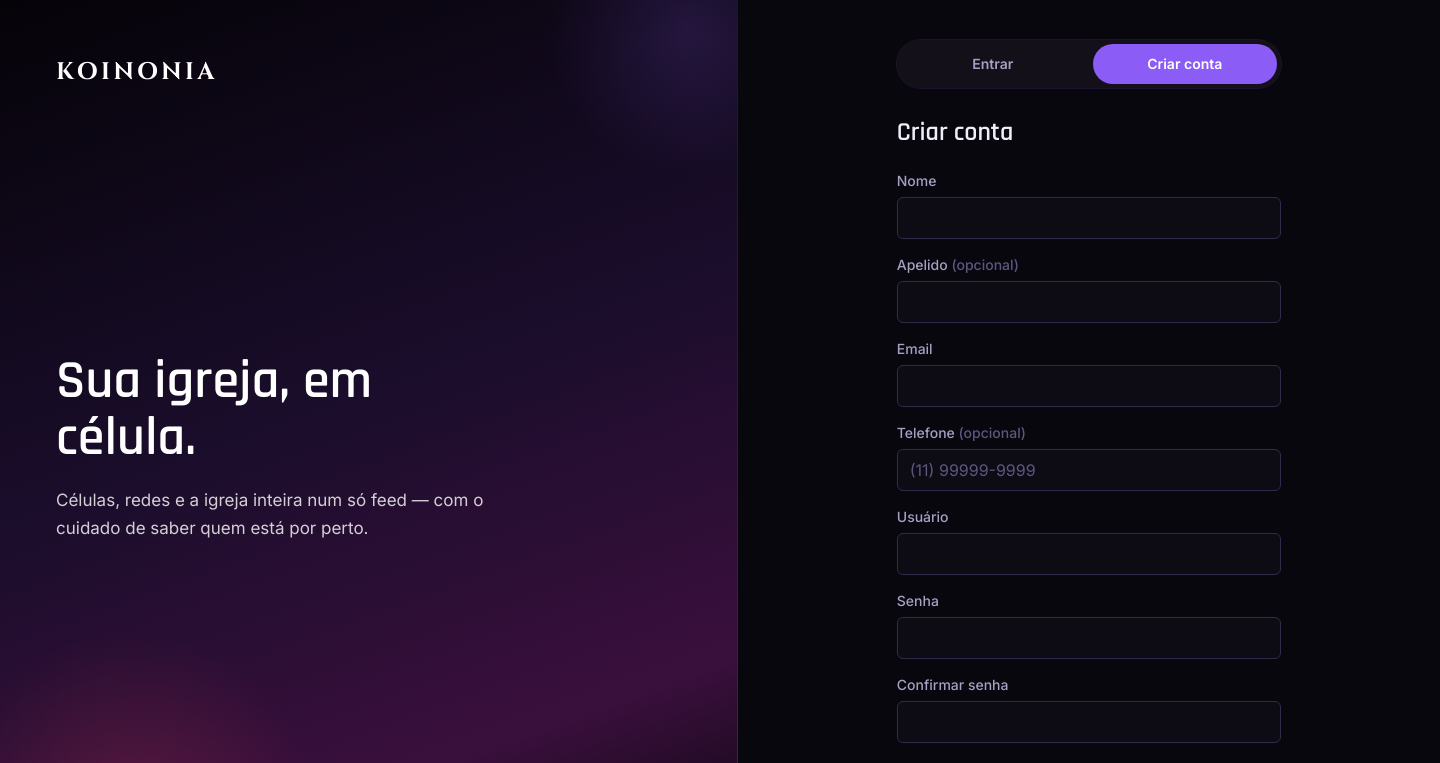
Test: RegisterPage › barra submit quando as senhas não coincidem
Type "Willians Martins" into the field labelled "Nome". click: (1089, 218)
box: x1=897 y1=197 x2=1281 y2=239
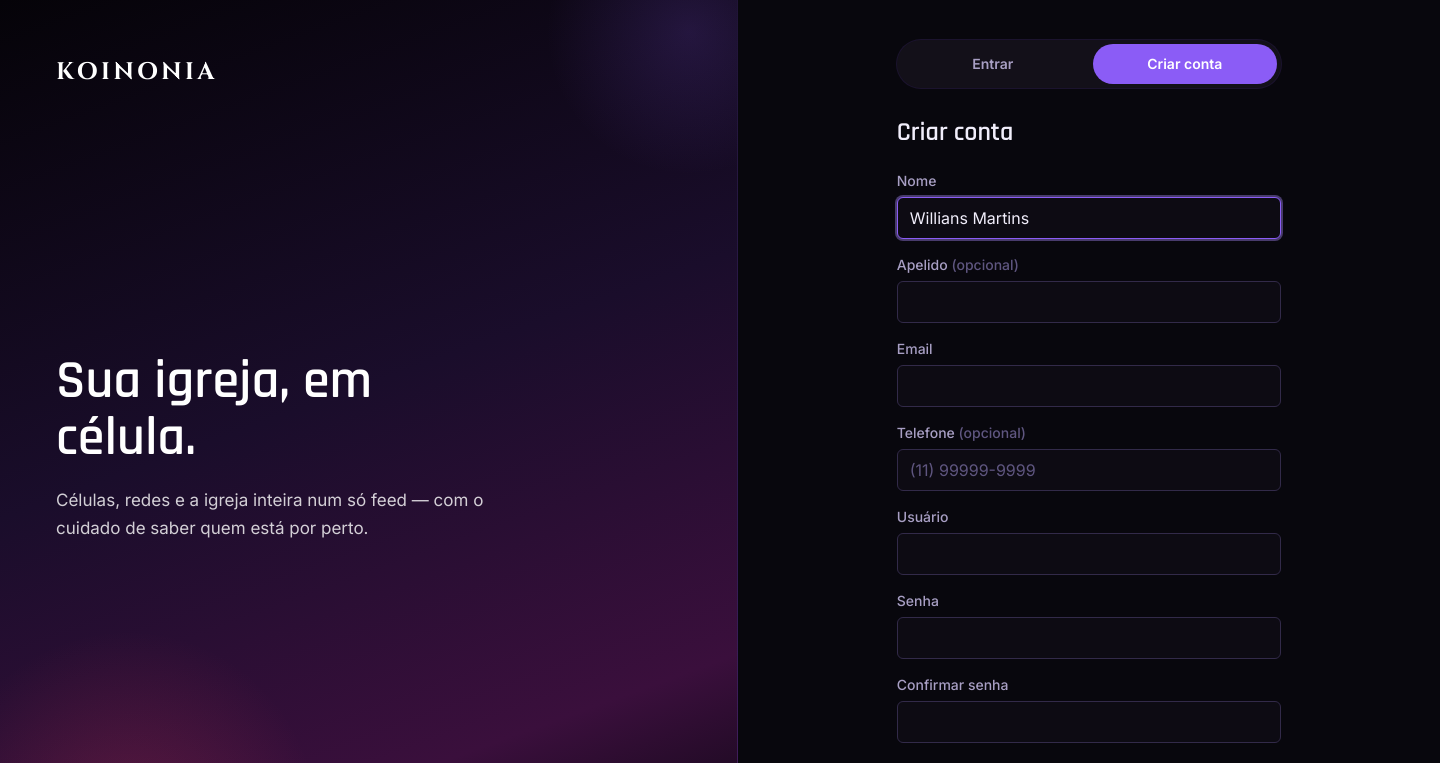
Type "wills@example.com" into the field labelled "Email". click: (1089, 386)
box: x1=897 y1=365 x2=1281 y2=407
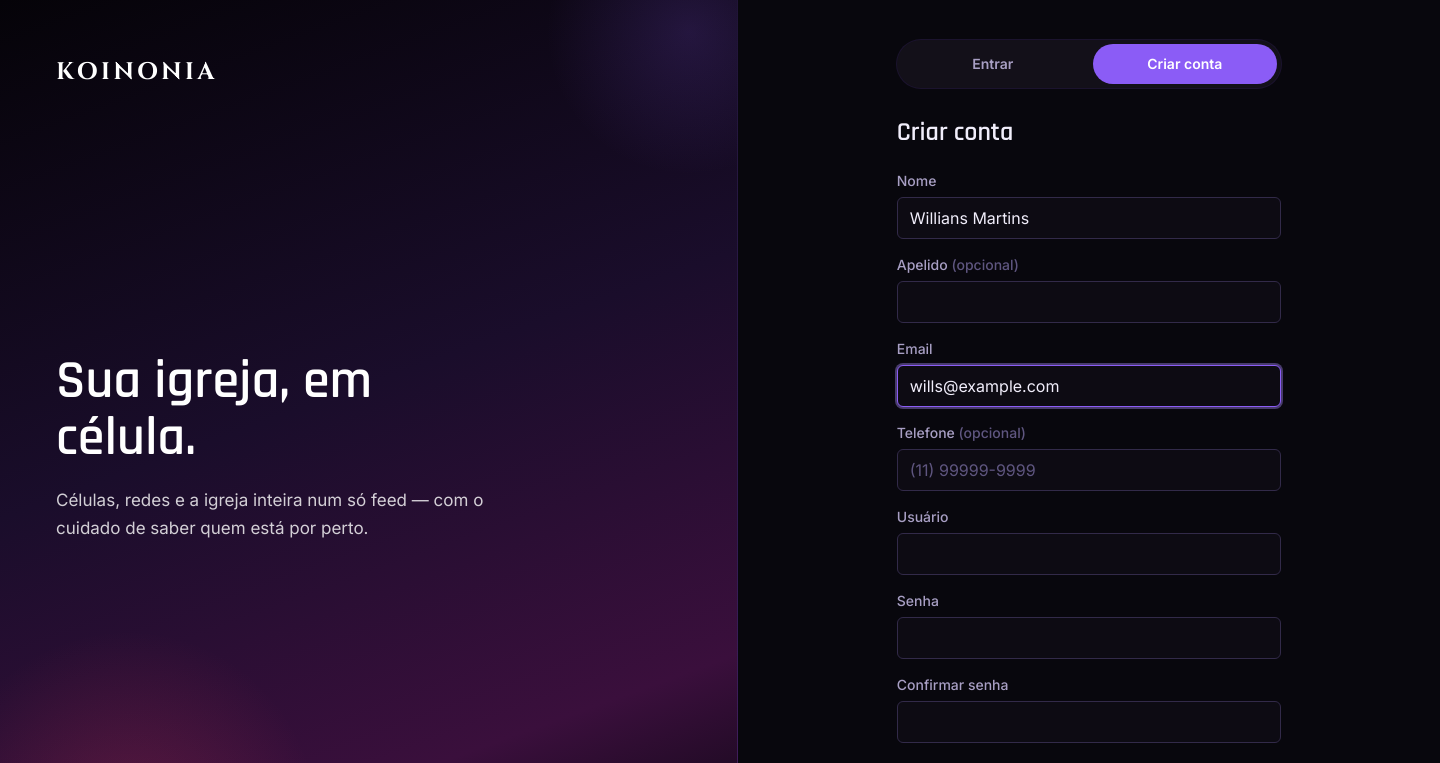
Type "wills" into the field labelled "Usuário". click: (1089, 554)
box: x1=897 y1=533 x2=1281 y2=575
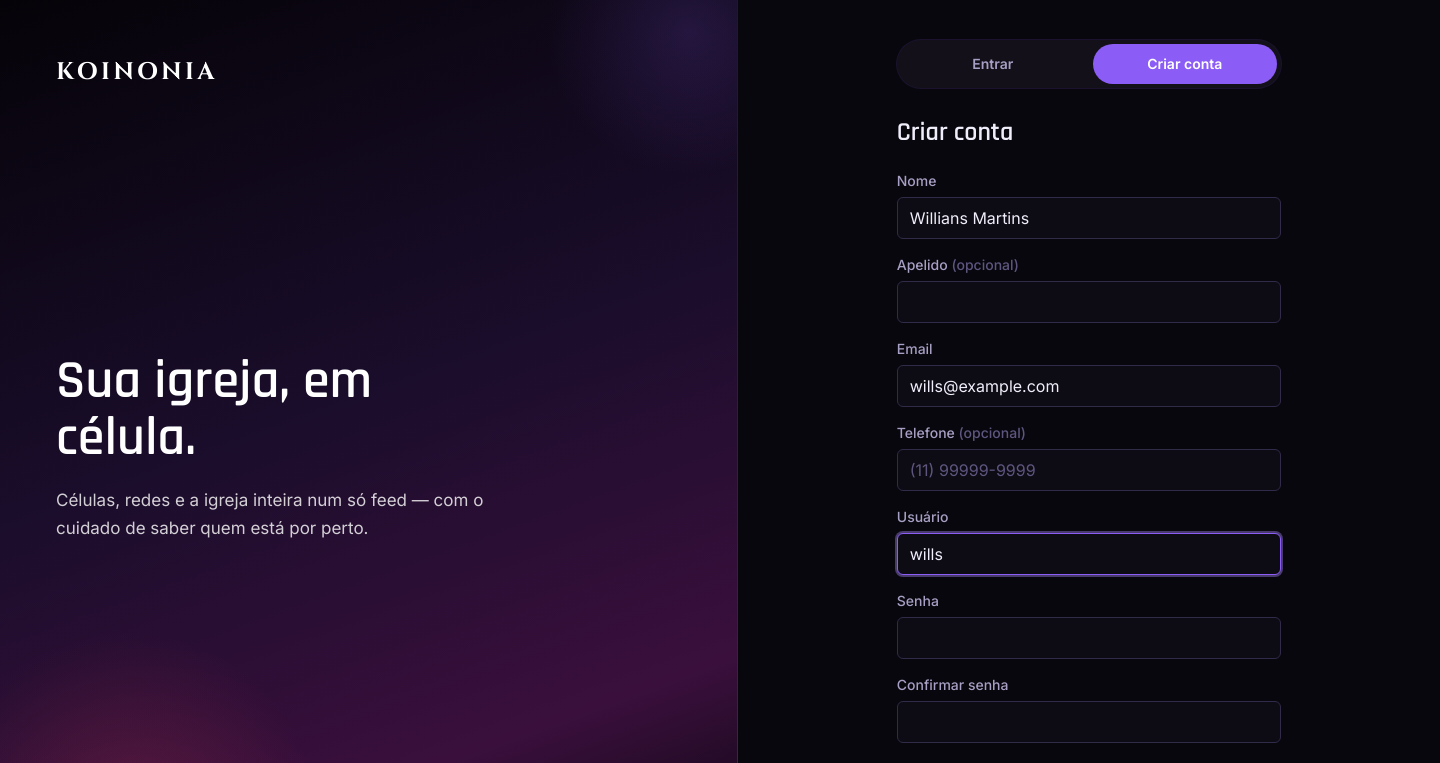
Type "senha-forte-123" into the password field labelled "Senha". click: (1089, 638)
box: x1=897 y1=617 x2=1281 y2=659
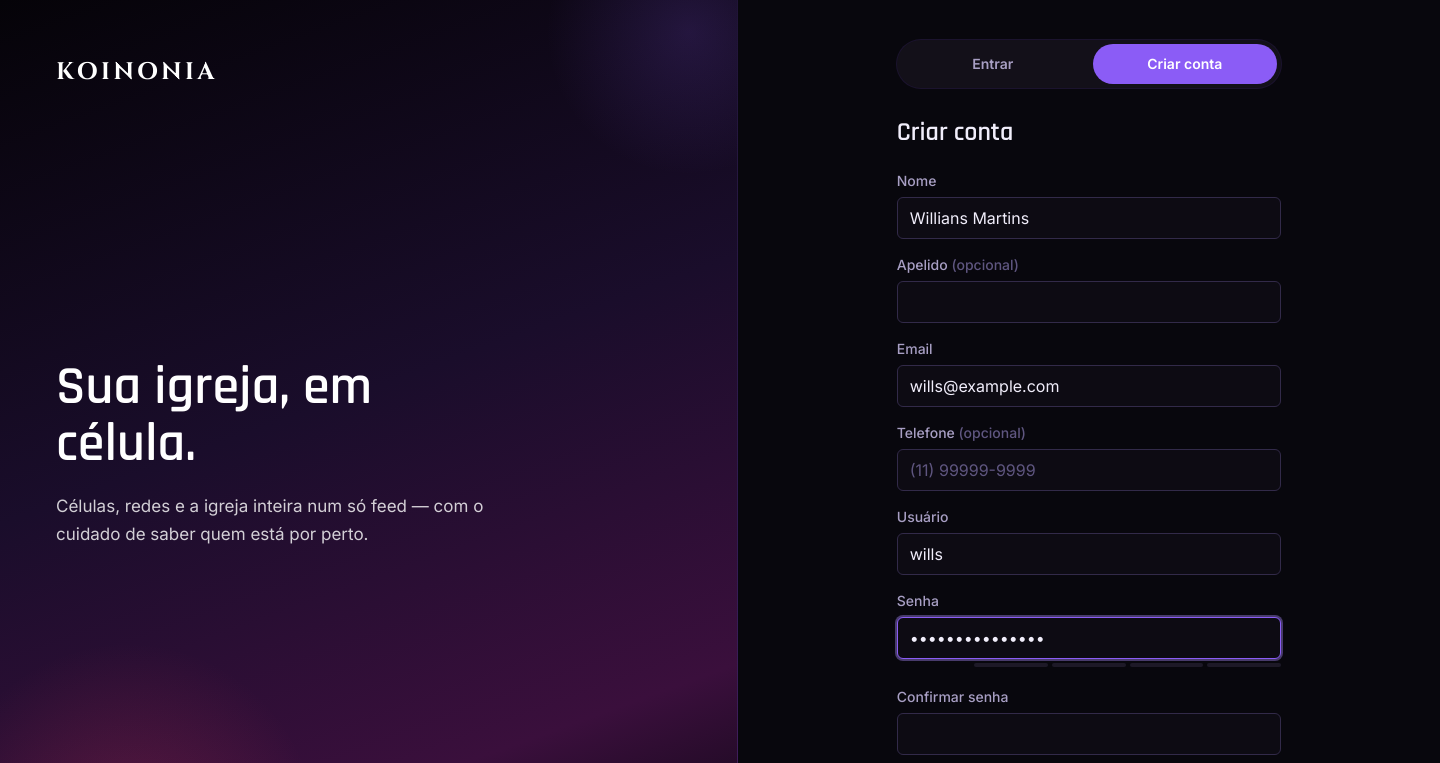
Type "outra-coisa" into the password field labelled "Confirmar senha". click: (1089, 734)
box: x1=897 y1=713 x2=1281 y2=755
(page scrolled)
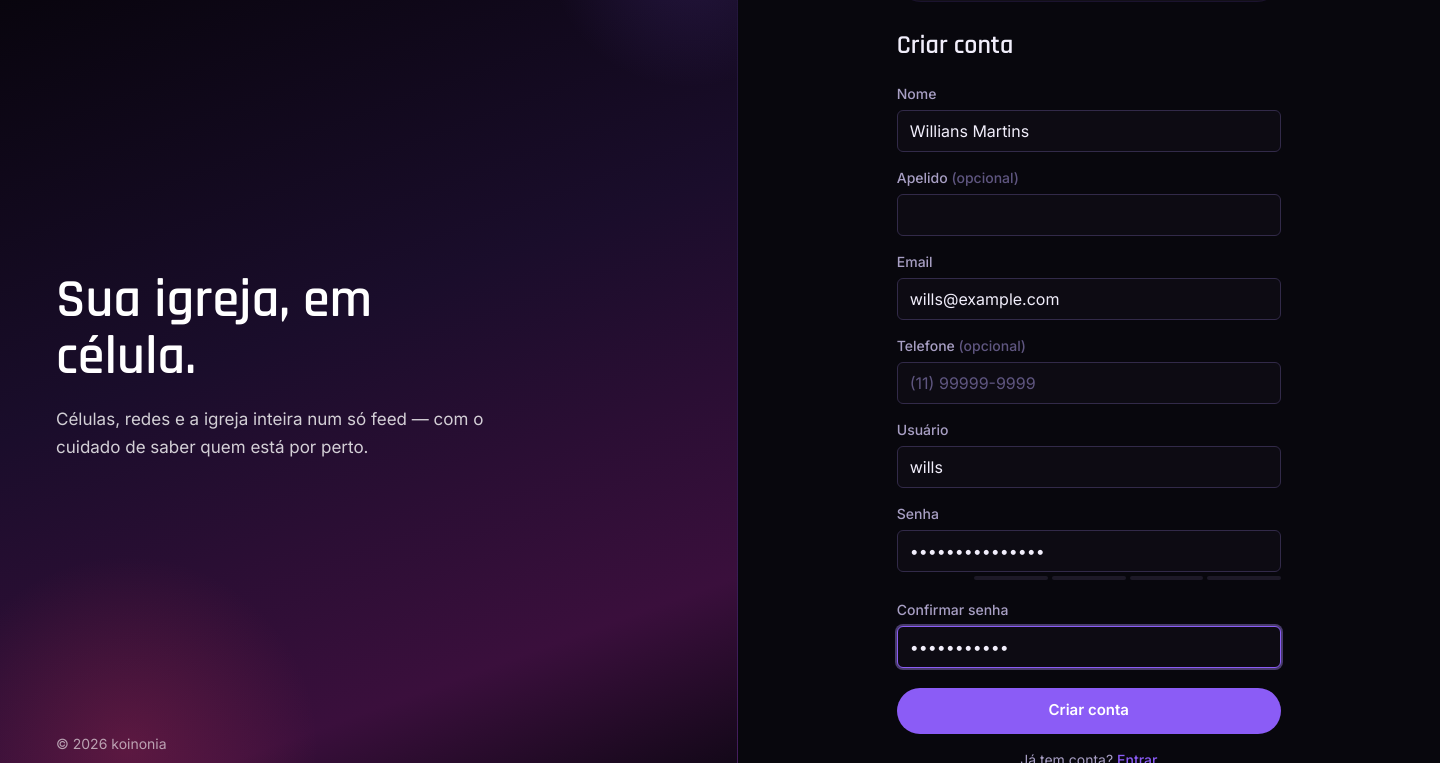
Click the button "Criar conta". click: (1089, 711)
box: x1=897 y1=688 x2=1281 y2=734
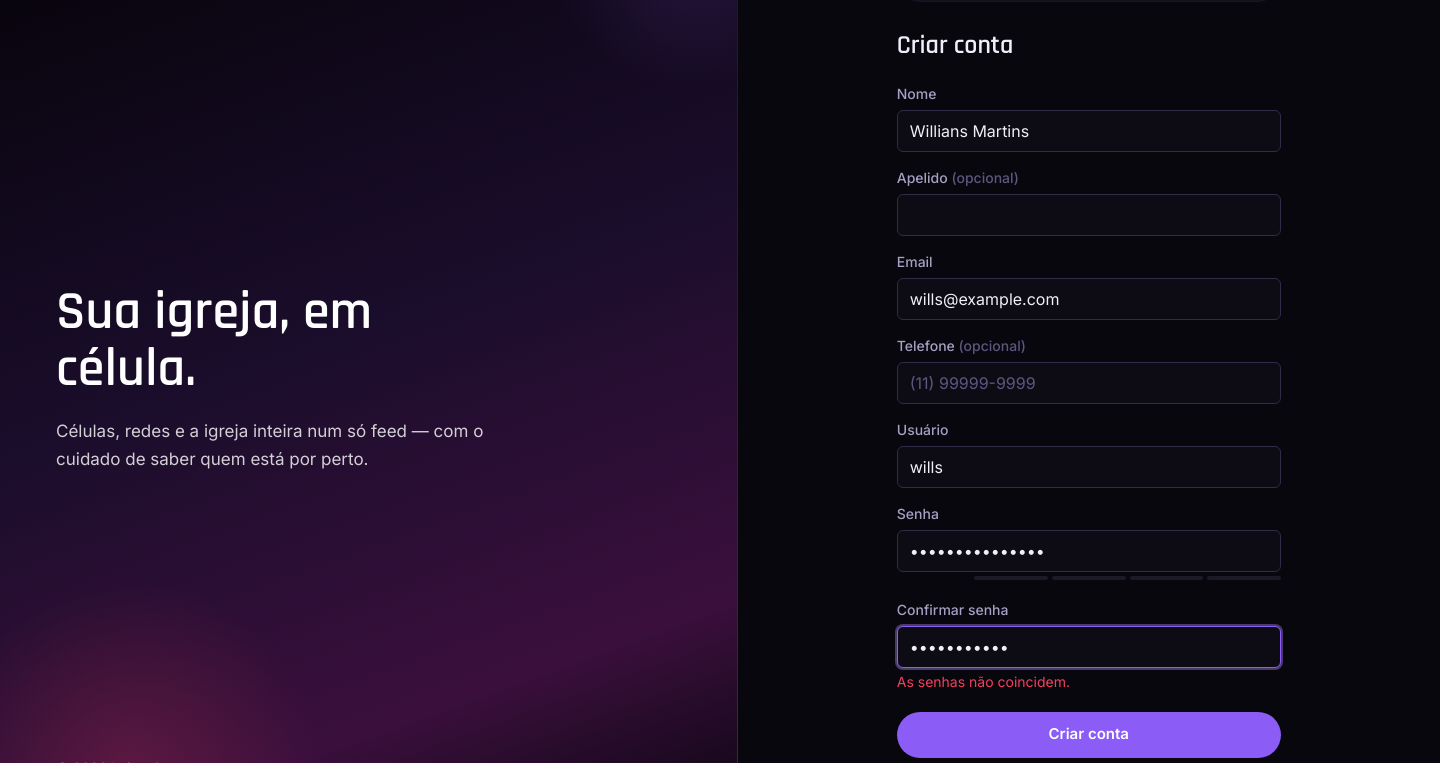
Check: the text "As senhas não coincidem." is shown, box x1=897 y1=673 x2=1070 y2=690
